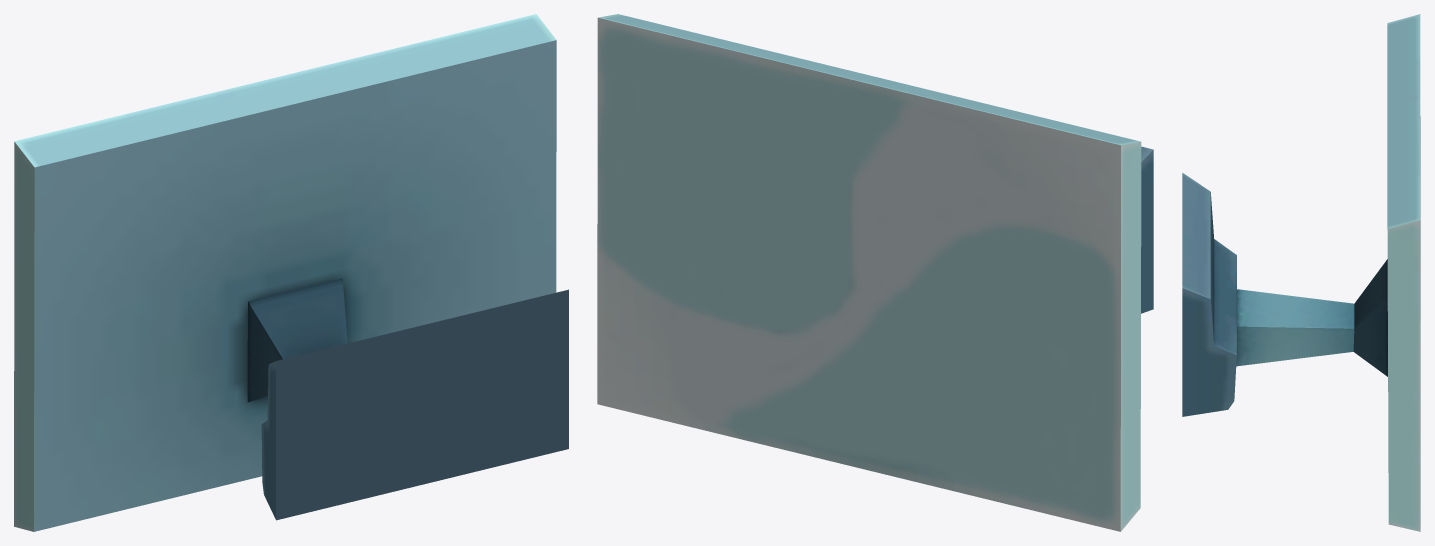
File: ScienceTable.fbx
The picture shows the model from 3 angles, left to right: view 1: azimuth 30°, elevation 25°; view 2: azimuth 150°, elevation 25°; view 3: azimuth 270°, elevation 25°; orthographic projection. The views are drawn at different scales.
Parts seen in each view (by area): view 1: ScienceTable; view 2: ScienceTable; view 3: ScienceTable.
Boxes of the visible parts, bbox=[...] form: ScienceTable: bbox=[14, 14, 568, 531]; ScienceTable: bbox=[597, 14, 1153, 531]; ScienceTable: bbox=[1182, 14, 1420, 531].
Size of the model in its own units: 81.15 by 57.26 by 39.69.
